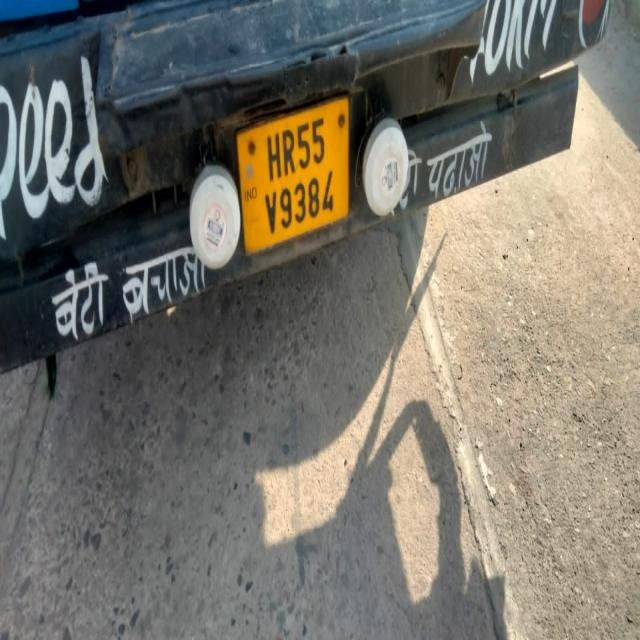License-plate: (246, 80, 346, 256)
